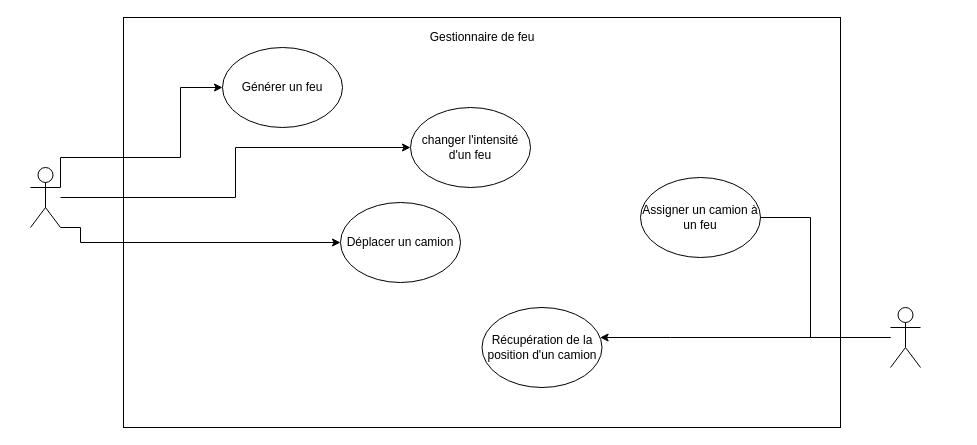
Some shapes in this 977 by 445 pixel diagram are drawn without their labels. The shapes that lost their labels are listed below. From the top down, each one's centre as x and y in pixels, then its label:
At pixel 45 197: "Simulateur".
At pixel 905 337: "EmergencyManager".
